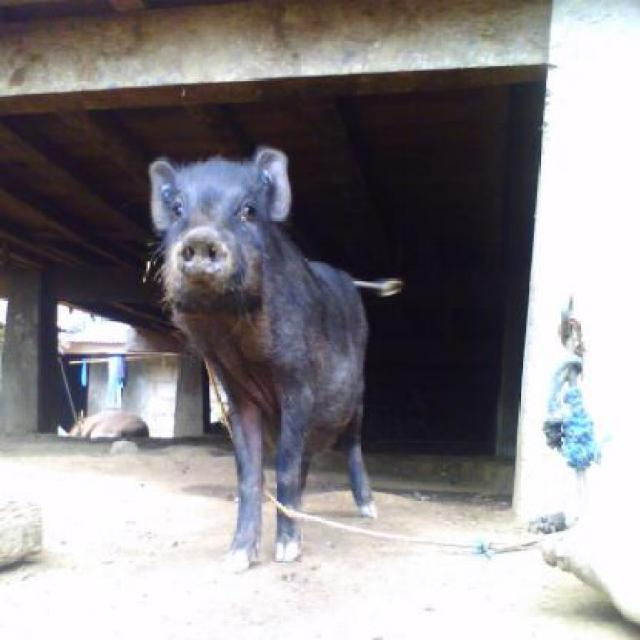pig: (146, 143, 409, 568)
